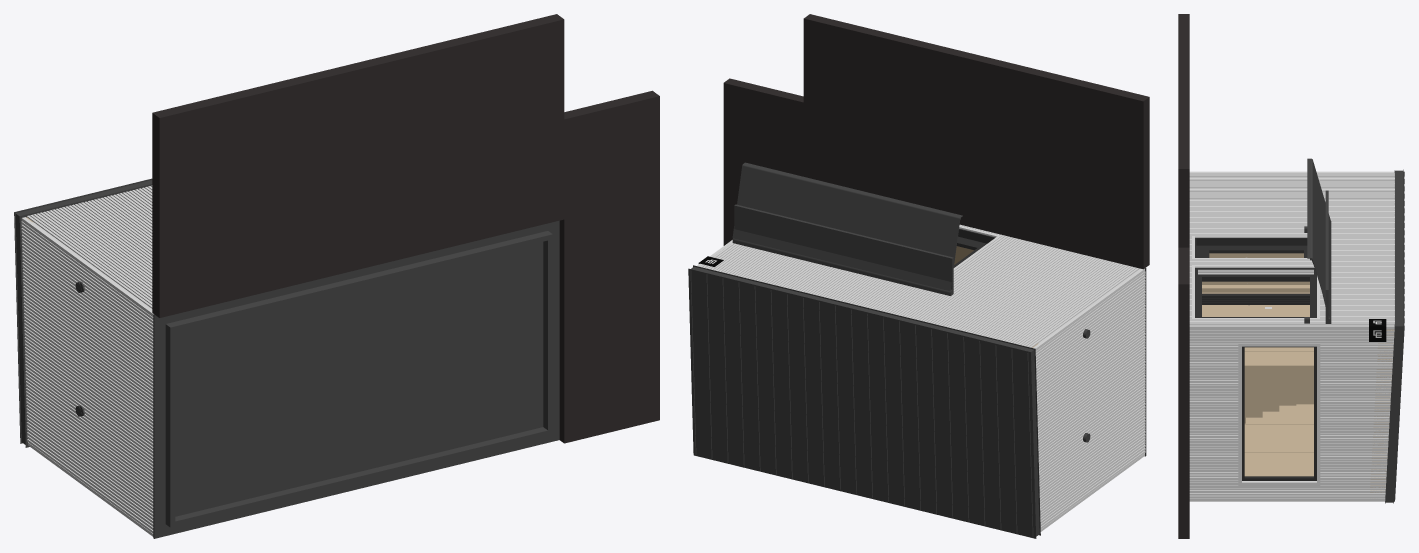
Rendered from WAVYROOM_STUDIO+.fbx.
3 views of the same model, side by side, from view 1: azimuth 30°, elevation 25°; view 2: azimuth 150°, elevation 25°; view 3: azimuth 270°, elevation 25° (orthographic). The views are drawn at different scales.
Visible parts, largest first — view 1: Base, Deck 3, Deck 2 Side, Base color, Mid color, Roof color, Deck 1.5, Roof; view 2: Roof, Deck 3, Deck 2 Side, Base color, Awning, Mid color, Roof color, Canopy, Deck 1.5, Base; view 3: Base color, Base, Mid color, Roof color, Roof, Wide Closet, Deck 2 Side, Deck 3, Awning, Standard, Canopy.
Part boxes in pixels (x1=…): Base: x1=75, y1=220, x2=559, y2=538; Deck 3: x1=152, y1=14, x2=564, y2=317; Deck 2 Side: x1=152, y1=90, x2=659, y2=443; Base color: x1=60, y1=224, x2=153, y2=536; Mid color: x1=39, y1=204, x2=152, y2=468; Roof color: x1=21, y1=185, x2=152, y2=453; Deck 1.5: x1=152, y1=133, x2=563, y2=317; Roof: x1=14, y1=178, x2=152, y2=447; Roof: x1=688, y1=256, x2=1040, y2=538; Deck 3: x1=803, y1=14, x2=1149, y2=269; Deck 2 Side: x1=723, y1=78, x2=1149, y2=268; Base color: x1=728, y1=224, x2=1145, y2=512; Awning: x1=732, y1=162, x2=962, y2=295; Mid color: x1=711, y1=243, x2=1067, y2=525; Roof color: x1=697, y1=256, x2=1050, y2=531; Canopy: x1=733, y1=204, x2=953, y2=295; Deck 1.5: x1=803, y1=103, x2=1149, y2=268; Base: x1=954, y1=228, x2=1146, y2=456; Base color: x1=1189, y1=171, x2=1333, y2=501; Base: x1=1195, y1=238, x2=1316, y2=476; Mid color: x1=1333, y1=171, x2=1365, y2=501; Roof color: x1=1365, y1=171, x2=1394, y2=501; Roof: x1=1369, y1=169, x2=1404, y2=503; Wide Closet: x1=1244, y1=347, x2=1313, y2=400; Deck 2 Side: x1=1178, y1=247, x2=1189, y2=538; Deck 3: x1=1178, y1=14, x2=1189, y2=247; Awning: x1=1307, y1=158, x2=1331, y2=323; Standard: x1=1202, y1=253, x2=1309, y2=284; Canopy: x1=1325, y1=190, x2=1331, y2=323.
Size of the model in its own units: 79.12 by 39.19 by 63.82.
